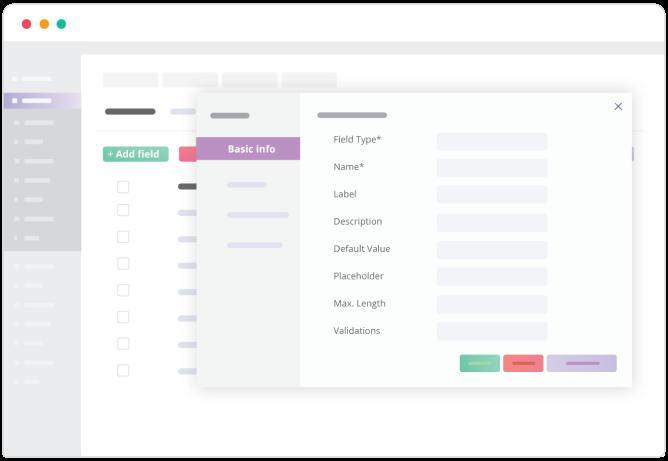button: (198, 138, 301, 160), (548, 355, 618, 373), (103, 146, 171, 163), (460, 355, 501, 373), (503, 354, 544, 372)
icon: (614, 103, 624, 112)
input: (437, 267, 549, 288), (436, 241, 549, 261), (437, 295, 549, 315), (437, 322, 549, 342), (438, 159, 549, 179), (437, 185, 548, 205), (438, 214, 549, 234), (437, 133, 549, 152)
label: (334, 243, 392, 254), (334, 299, 387, 310), (333, 135, 384, 146), (334, 326, 382, 336), (334, 272, 385, 281), (335, 219, 383, 227), (333, 162, 365, 172), (334, 189, 358, 200)
